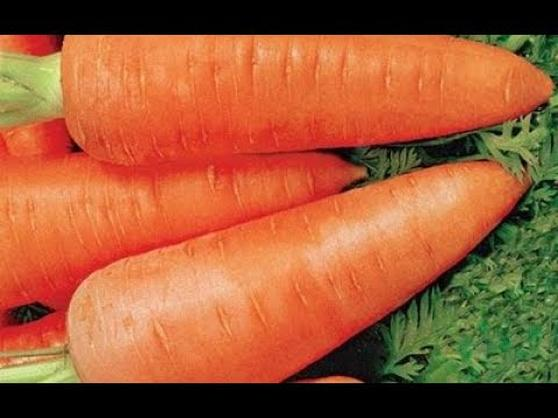carrot: (62, 160, 523, 382), (50, 36, 553, 154)
